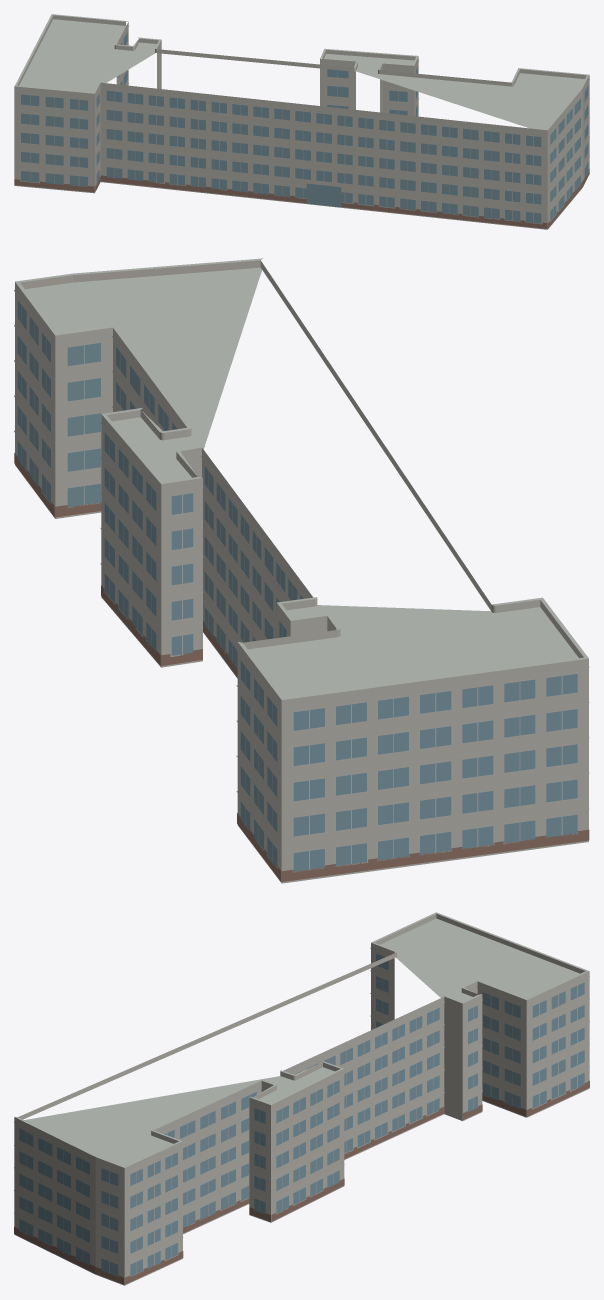
The model's file is public-b5bd2b4f-ac01-4001-9609-43310d0b5a3b.glb.
3 renders of one model, top to bottom at view 1: azimuth 30°, elevation 25°; view 2: azimuth 150°, elevation 25°; view 3: azimuth 270°, elevation 25°, orthographic. The views are drawn at different scales.
Visible parts, largest first — view 1: public-b5bd2b4f-ac01-4001-9609-43310d0b5a3b; view 2: public-b5bd2b4f-ac01-4001-9609-43310d0b5a3b; view 3: public-b5bd2b4f-ac01-4001-9609-43310d0b5a3b.
Part boxes in pixels (bbox=[...]): public-b5bd2b4f-ac01-4001-9609-43310d0b5a3b: bbox=[14, 14, 589, 229]; public-b5bd2b4f-ac01-4001-9609-43310d0b5a3b: bbox=[14, 258, 589, 883]; public-b5bd2b4f-ac01-4001-9609-43310d0b5a3b: bbox=[14, 912, 589, 1285].
Bounding box in the file's own units: 71.19 × 15.25 × 67.64.
